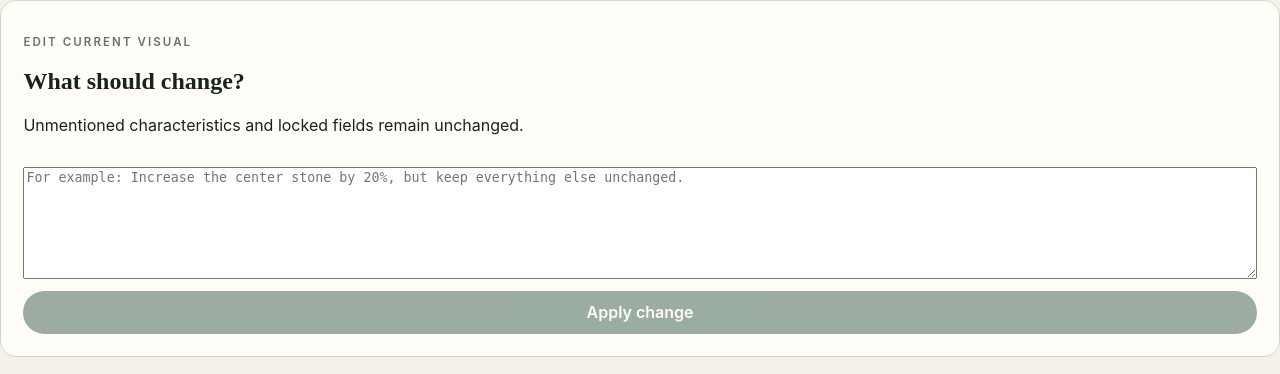
Test: iterative editing › collects a change request only after a current visual is available
Later steps or results of the test are not shown.
Expected: the button "Apply change" is disabled, 23,291 -> 1257,334
Step 1. Type "Increase the center stone by 20%." into the text box named "Change request" → (640, 223), box 23,167 -> 1257,279
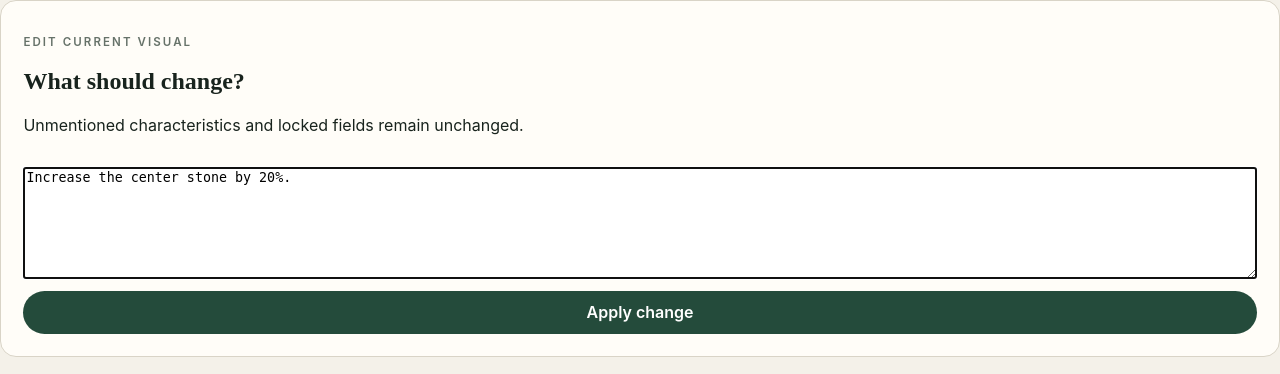
Now the button "Apply change" is enabled, box 23,291 -> 1257,334
